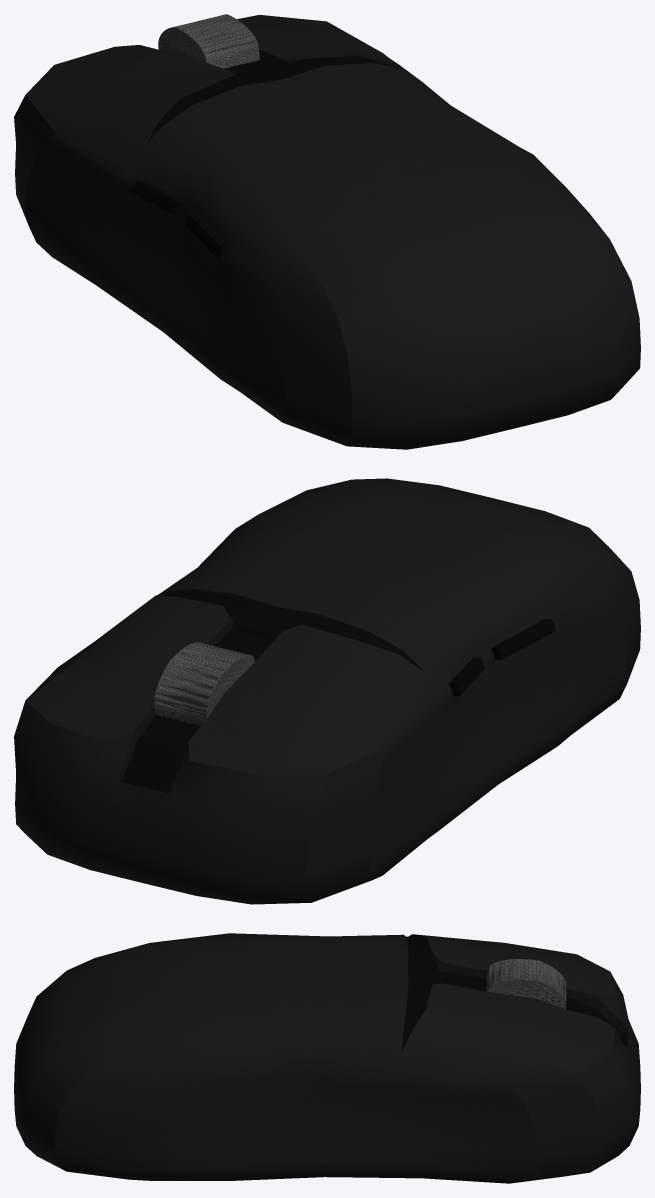
File: mouse 2.glb
3 renders of one model, top to bottom at view 1: azimuth 30°, elevation 25°; view 2: azimuth 150°, elevation 25°; view 3: azimuth 270°, elevation 25°, orthographic. The views are drawn at different scales.
Visible parts, largest first — view 1: Mouse; view 2: Mouse; view 3: Mouse.
Part boxes in pixels (x1,y1,x2,y2): Mouse: (14,14,640,449); Mouse: (14,478,640,904); Mouse: (14,933,640,1183).
Bounding box in the file's own units: 1.6 × 0.8524 × 3.05.
Materials: 3 (2 with a texture image).
